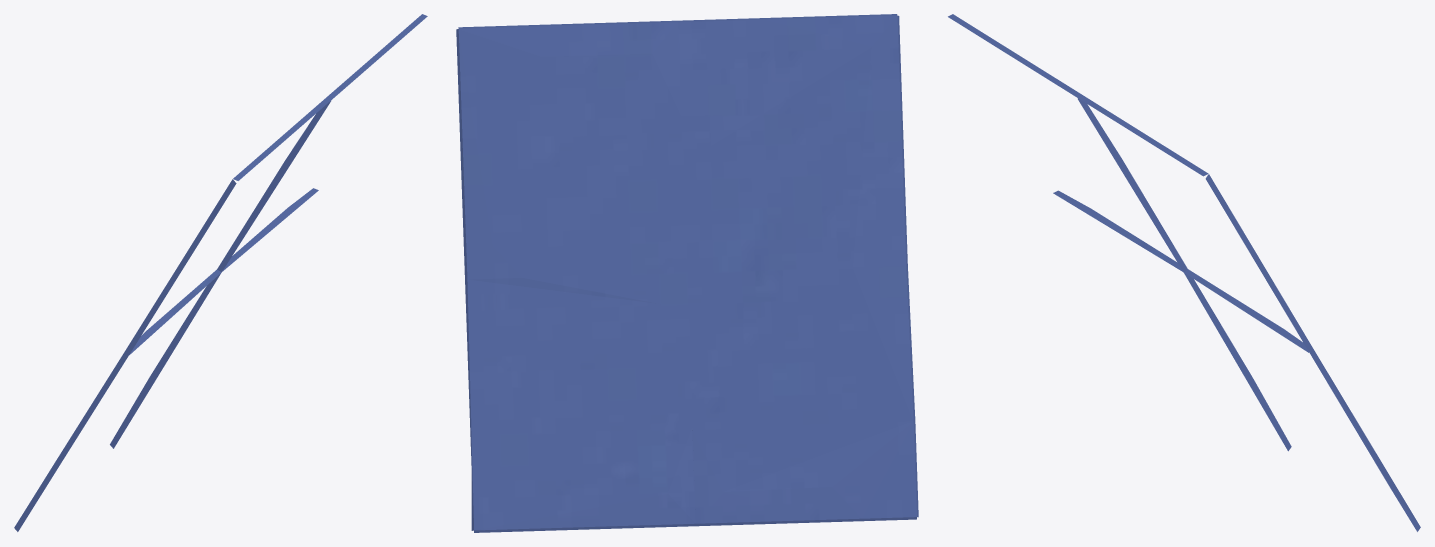
3 views of the same model, side by side, from view 1: azimuth 30°, elevation 25°; view 2: azimuth 150°, elevation 25°; view 3: azimuth 270°, elevation 25° (orthographic). The views are drawn at different scales.
Bounding box in the file's own units: 79069 × 69086 × 71023.
1 material, 1 textured.
